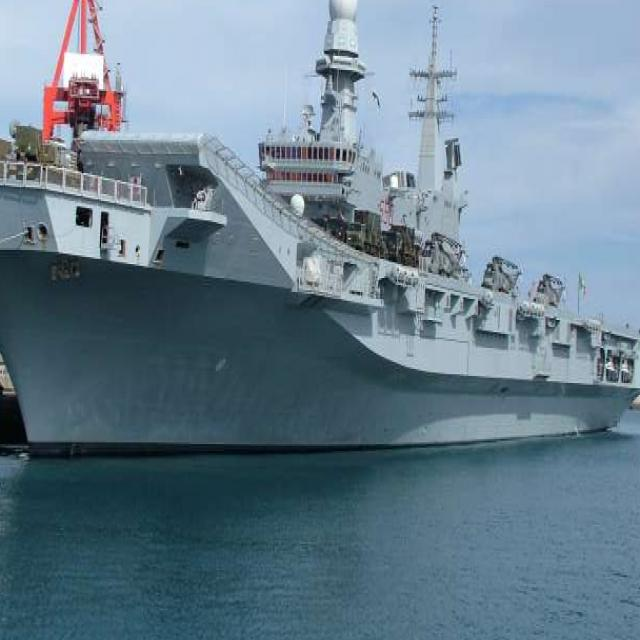Portanaves: (1, 1, 640, 466)
